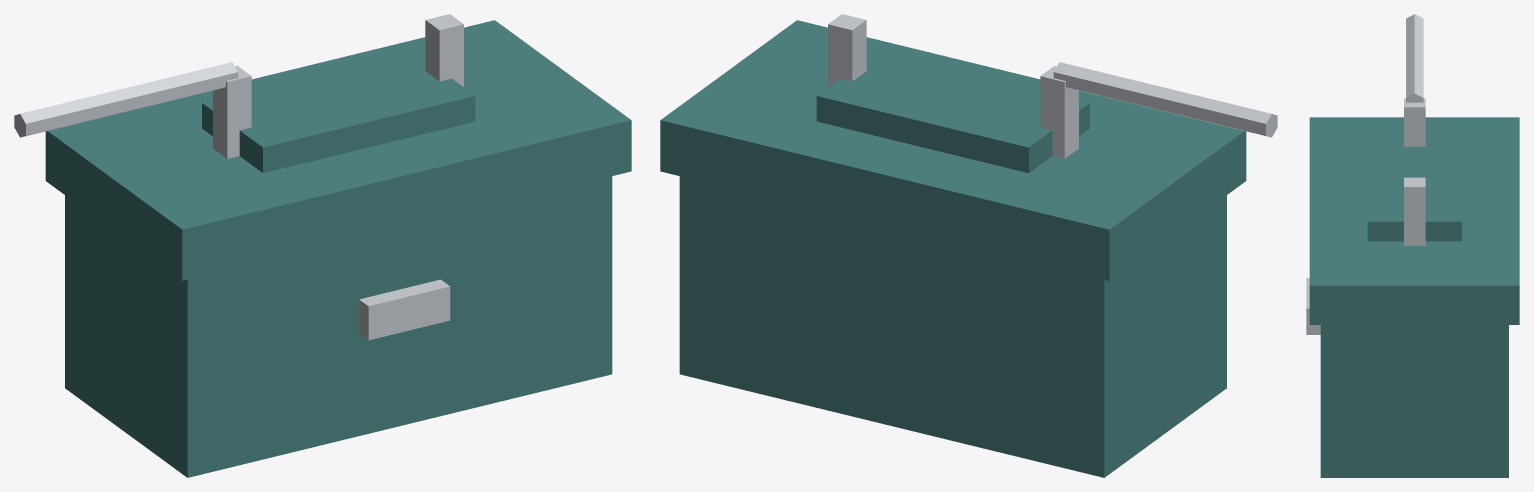
File: steampunk-airship-dock-and-workshop-toolbox-2754f8a9.glb
3 renders of one model, left to right at view 1: azimuth 30°, elevation 25°; view 2: azimuth 150°, elevation 25°; view 3: azimuth 270°, elevation 25°, orthographic. The views are drawn at different scales.
Parts seen in each view (by area): view 1: toolbox, toolbox-lid; view 2: toolbox, toolbox-lid; view 3: toolbox-lid, toolbox.
Boxes of the visible parts, x1,y1,x2,y2 form: toolbox: (14,14,612,477); toolbox-lid: (45,20,631,280); toolbox: (679,14,1277,477); toolbox-lid: (660,20,1246,280); toolbox-lid: (1309,117,1519,324); toolbox: (1306,14,1508,477).
Bounding box in the file's own units: 0.665 × 0.404 × 0.295.
